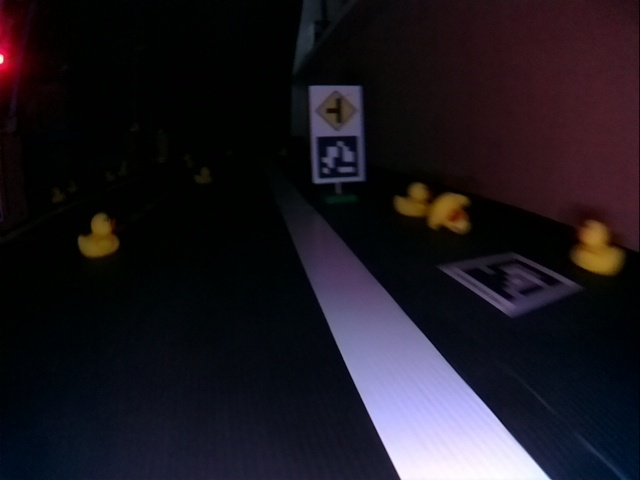Duckie: (573, 219, 624, 274), (78, 213, 121, 258), (427, 192, 471, 233), (394, 182, 429, 217)
Intersection sign: (314, 89, 359, 131)
QR code: (441, 253, 581, 314), (316, 136, 360, 181)
